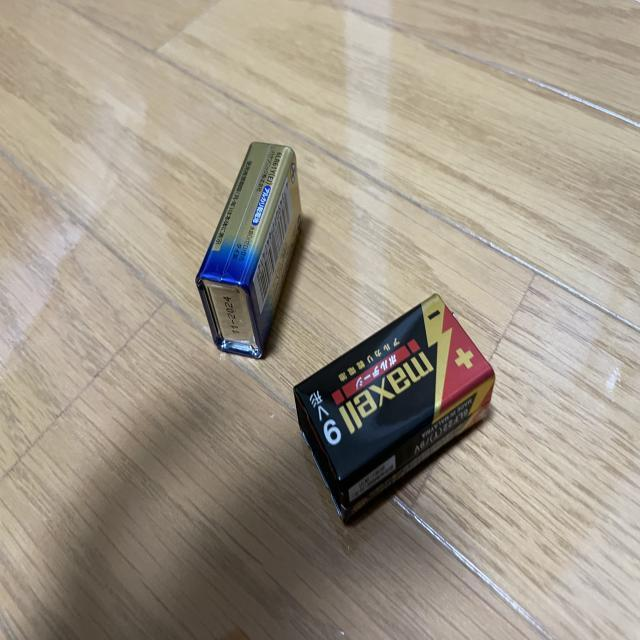9V: (292, 292, 496, 529), (194, 140, 305, 360)
